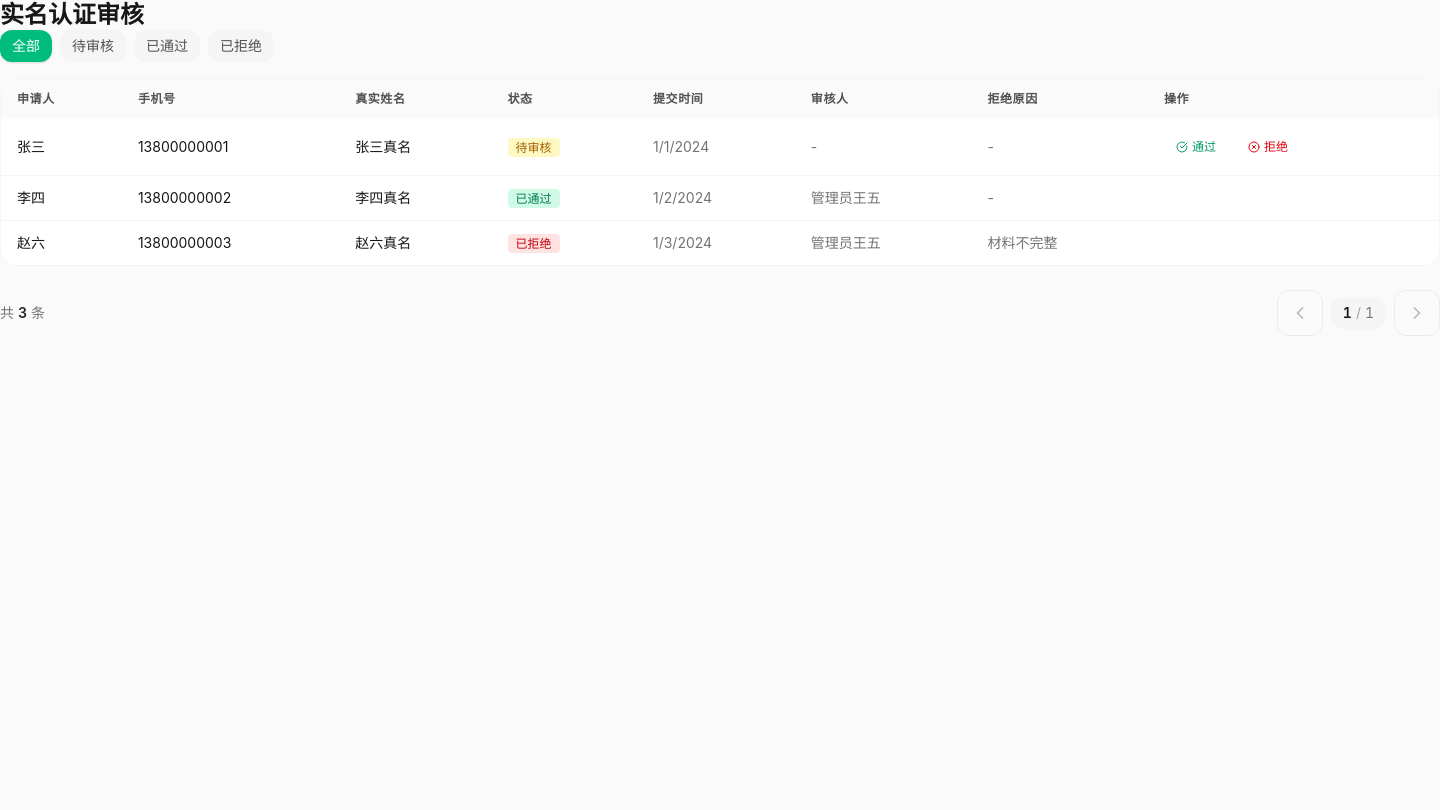
Test: VerificationReview 实名认证审核 › 拒绝原因为空时点击"确认拒绝"显示错误提示
This screenshot has width=1440, height=810.
Click the button "拒绝" at (1268,147), box [1236,131,1300,163]
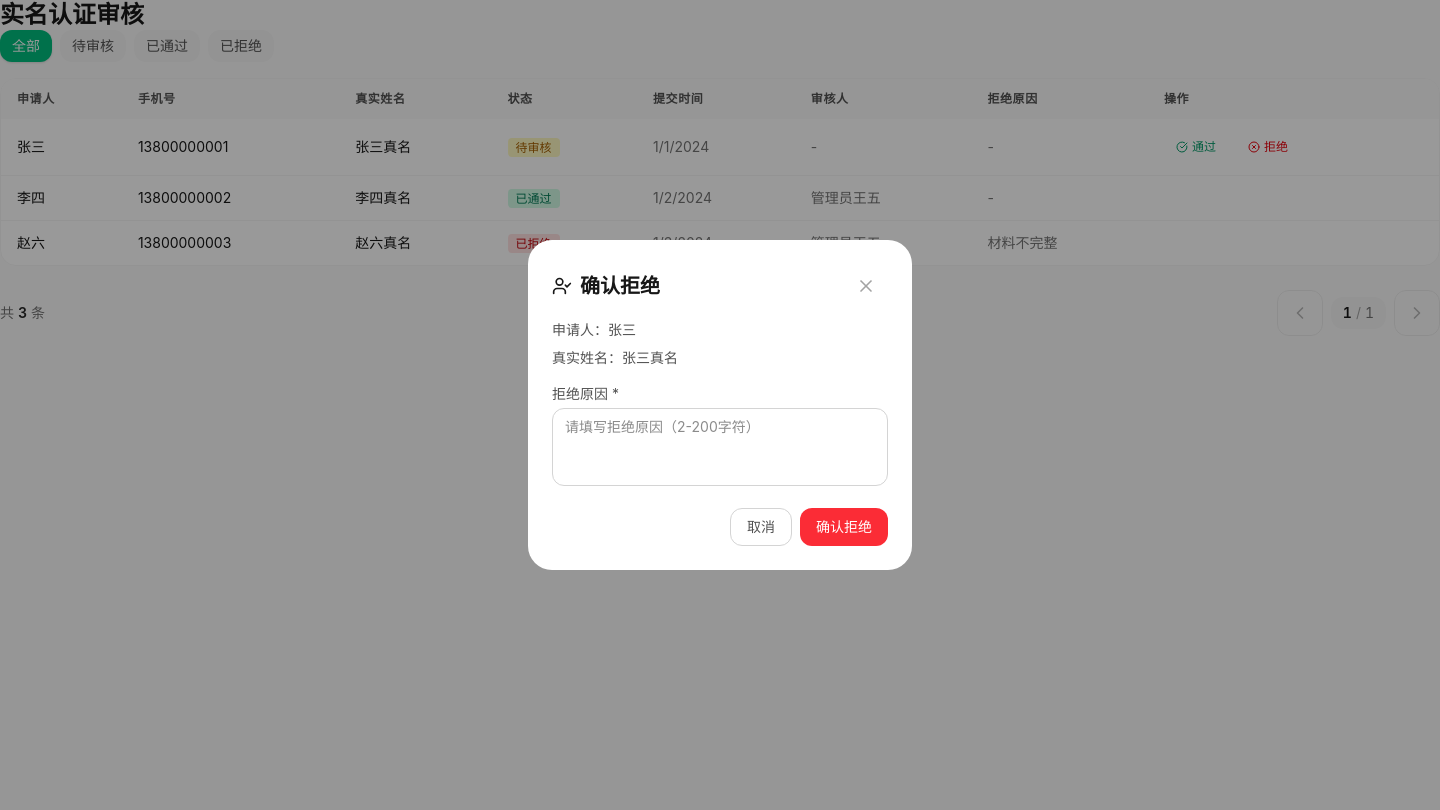
// 弹窗内"确认拒绝"按钮（与弹窗标题同名，用 button role 精确取最后一个：弹窗内按钮渲染最晚）
Click the button "确认拒绝" at (844,527), box [800,508,888,546]
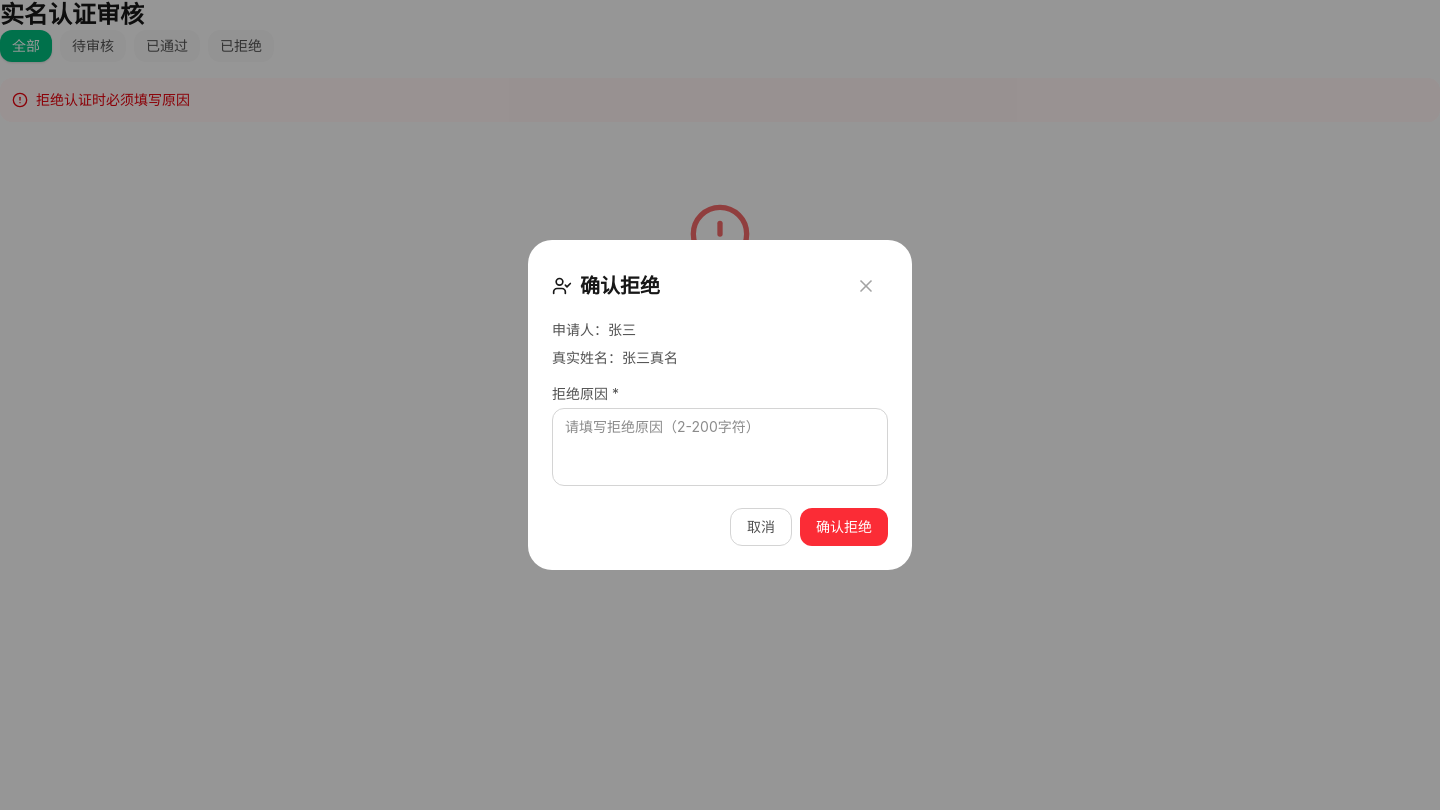
Now the text "拒绝认证时必须填写原因" is shown, box [0,78,1439,122]
